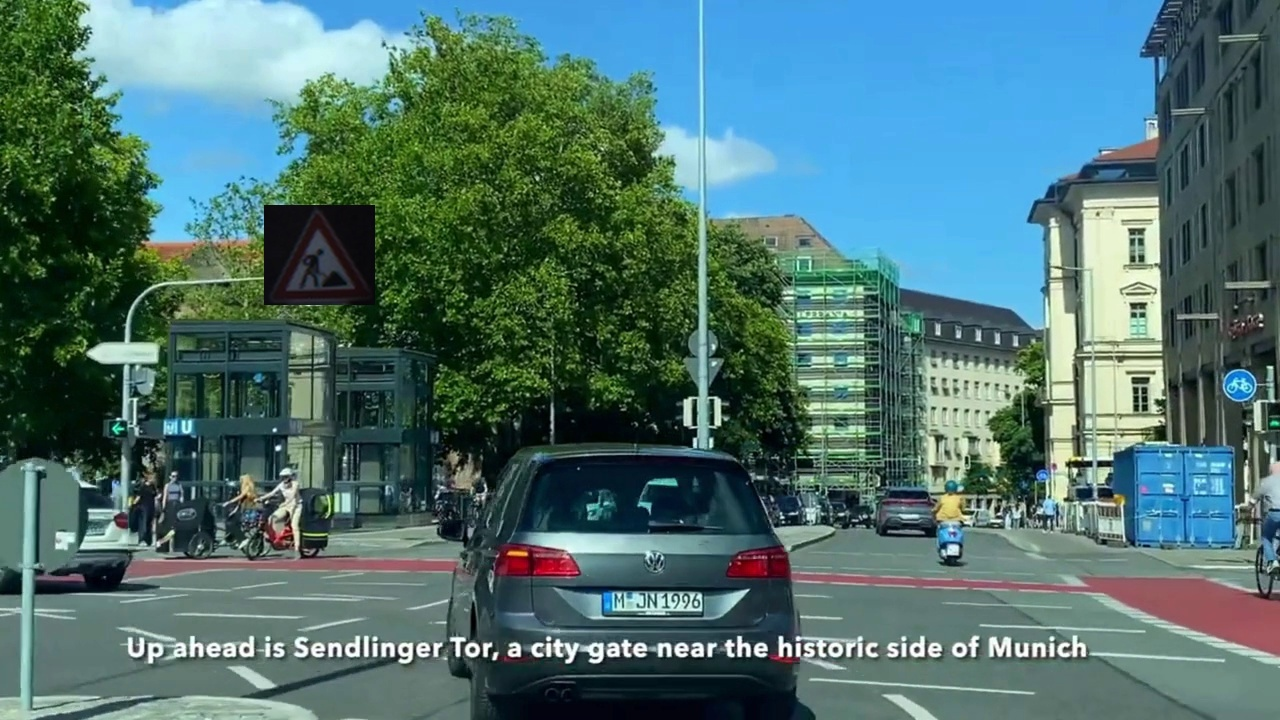Road work: (264, 205, 375, 305)
